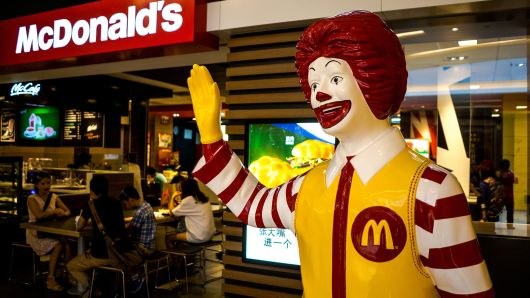mcdonalds: (360, 217, 395, 248)
